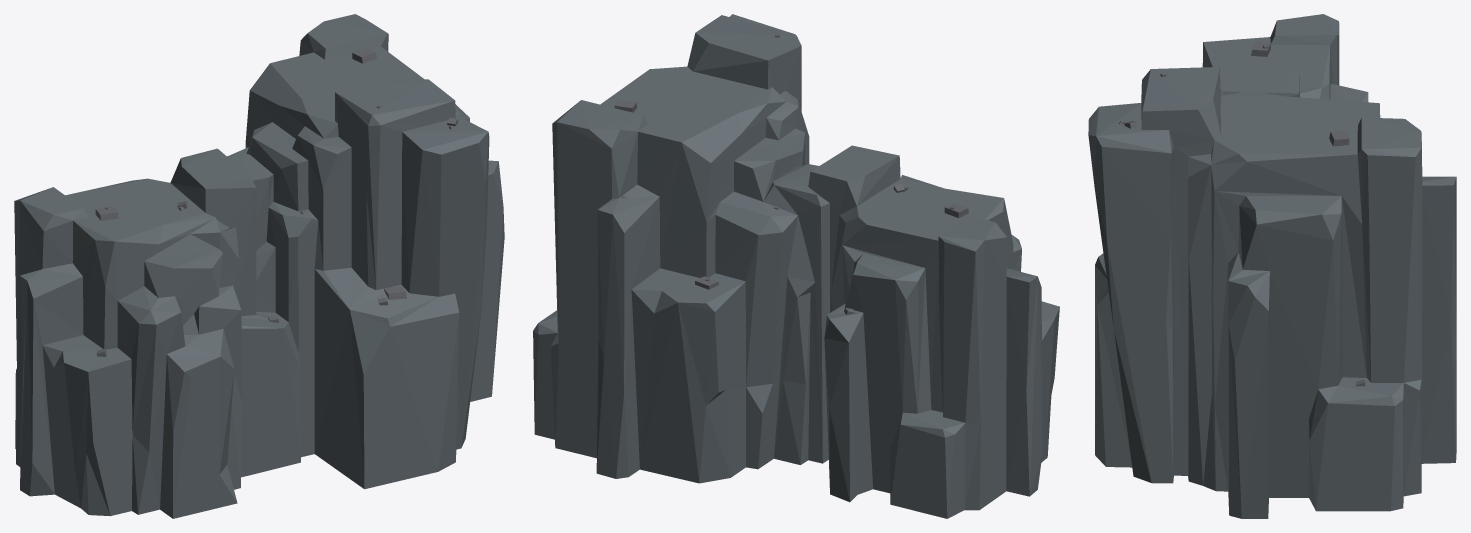
Rendered from Rock_Big_2.fbx.
3 renders of one model, left to right at view 1: azimuth 30°, elevation 25°; view 2: azimuth 150°, elevation 25°; view 3: azimuth 270°, elevation 25°, orthographic. The views are drawn at different scales.
Parts seen in each view (by area): view 1: polySurface10326; view 2: polySurface10326; view 3: polySurface10326.
Boxes of the visible parts, x1=… form: polySurface10326: x1=14, y1=14, x2=504, y2=518; polySurface10326: x1=533, y1=14, x2=1059, y2=518; polySurface10326: x1=1088, y1=14, x2=1456, y2=518.
Bounding box in the file's own units: 1235 × 877 × 796.
